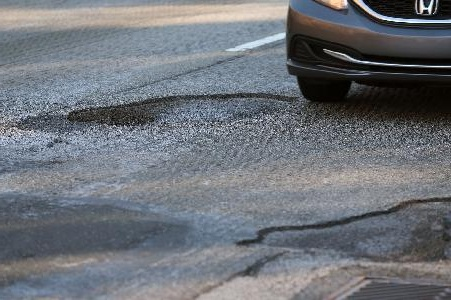pothole: (235, 192, 451, 263), (66, 88, 298, 129)
